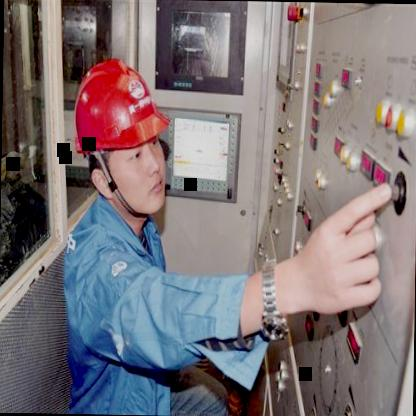helmet: (71, 53, 174, 216)
